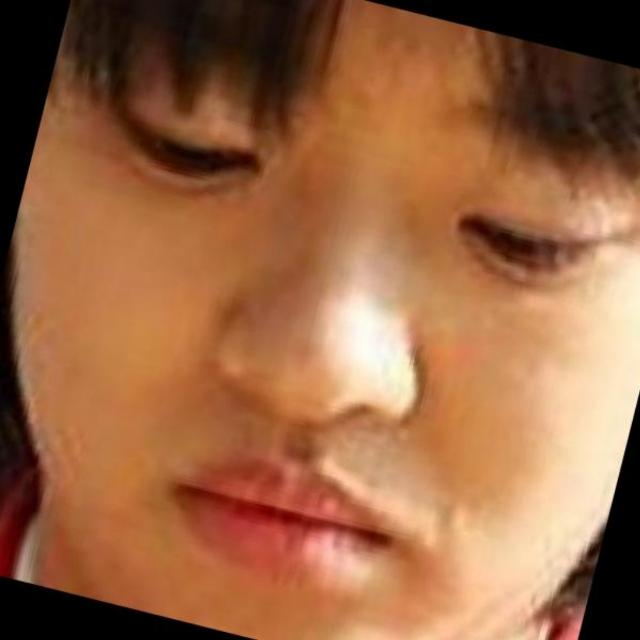Sad: (81, 36, 590, 640)
